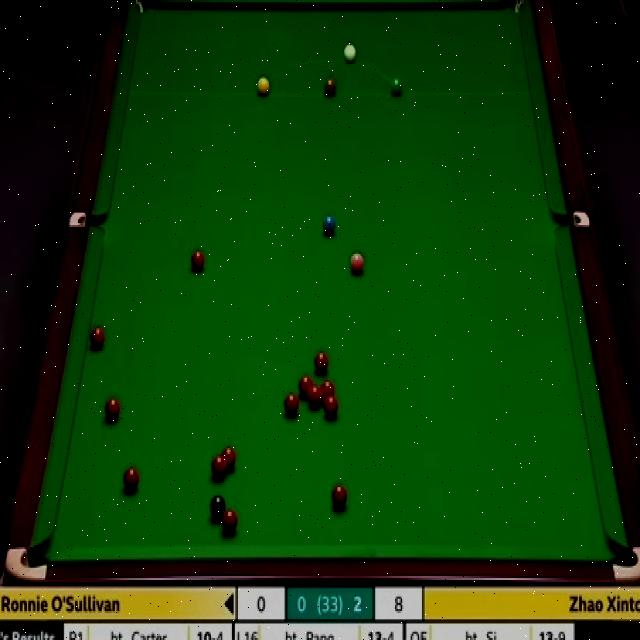black-ball: (210, 493, 228, 518)
blue-ball: (322, 212, 336, 238)
brown-ball: (323, 76, 337, 96)
green-ball: (389, 77, 402, 96)
pink-ball: (350, 254, 365, 276)
red-ball: (330, 480, 348, 512), (119, 465, 139, 491), (88, 326, 107, 352), (297, 372, 315, 398), (102, 394, 119, 421), (312, 351, 331, 373), (211, 454, 228, 478), (224, 509, 238, 536), (223, 447, 239, 470), (321, 381, 336, 404), (307, 386, 323, 407), (284, 391, 298, 414), (324, 394, 338, 416), (190, 252, 205, 270)
white-ball: (344, 43, 357, 62)
yellow-ball: (256, 76, 270, 96)
